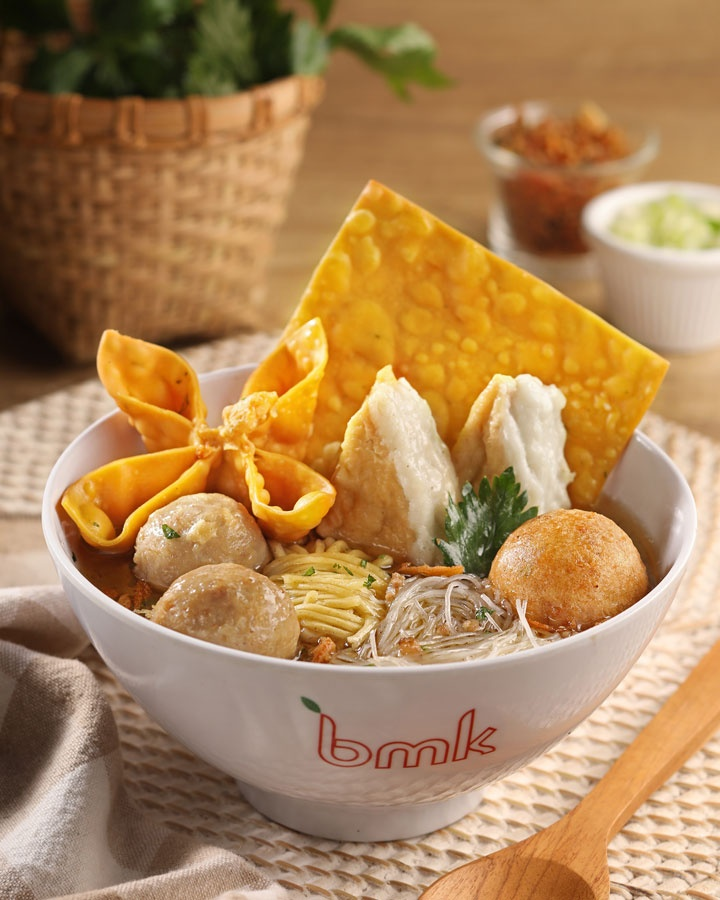bakso_malang: (60, 185, 672, 666)
